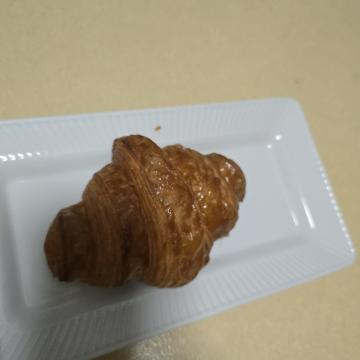croissant: (125, 105, 302, 329)
